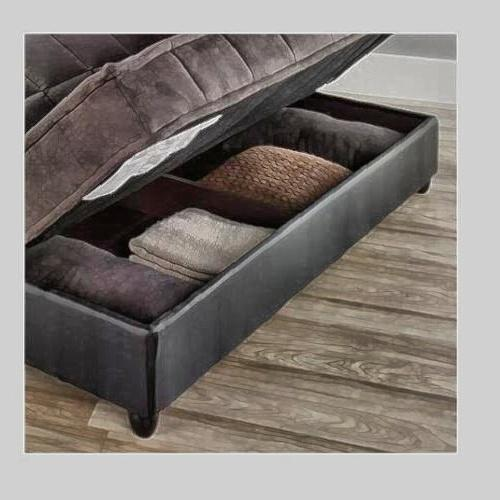sofa: (39, 56, 433, 417)
